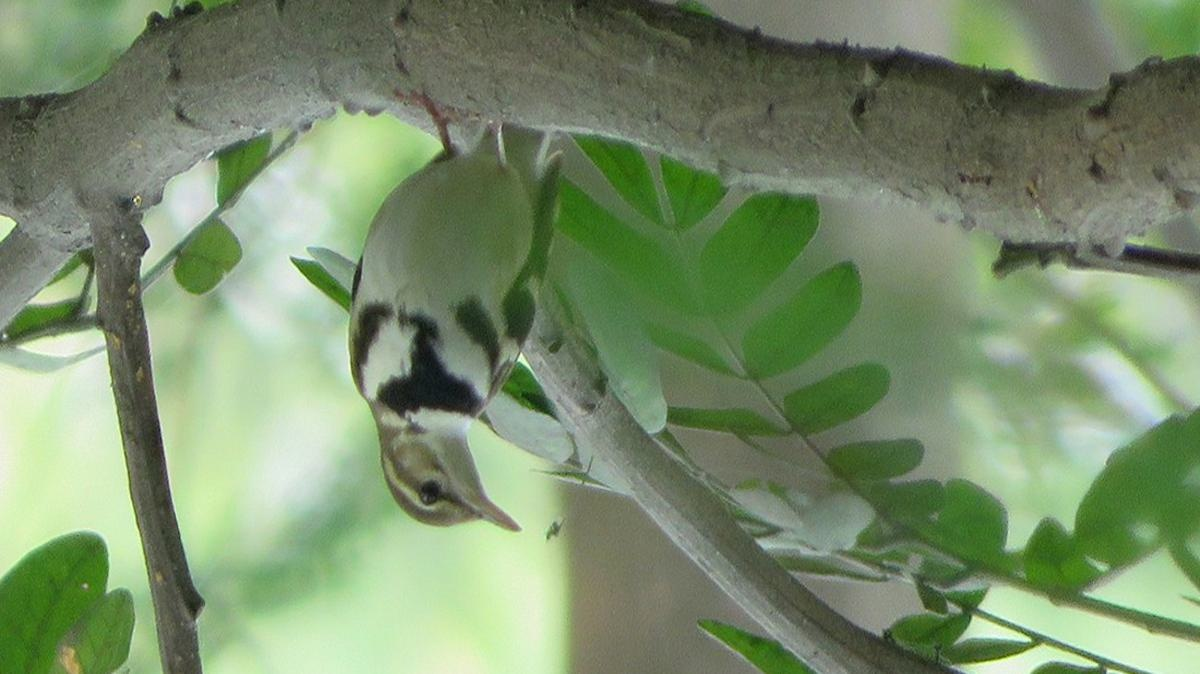wagtail: (348, 143, 529, 552)
